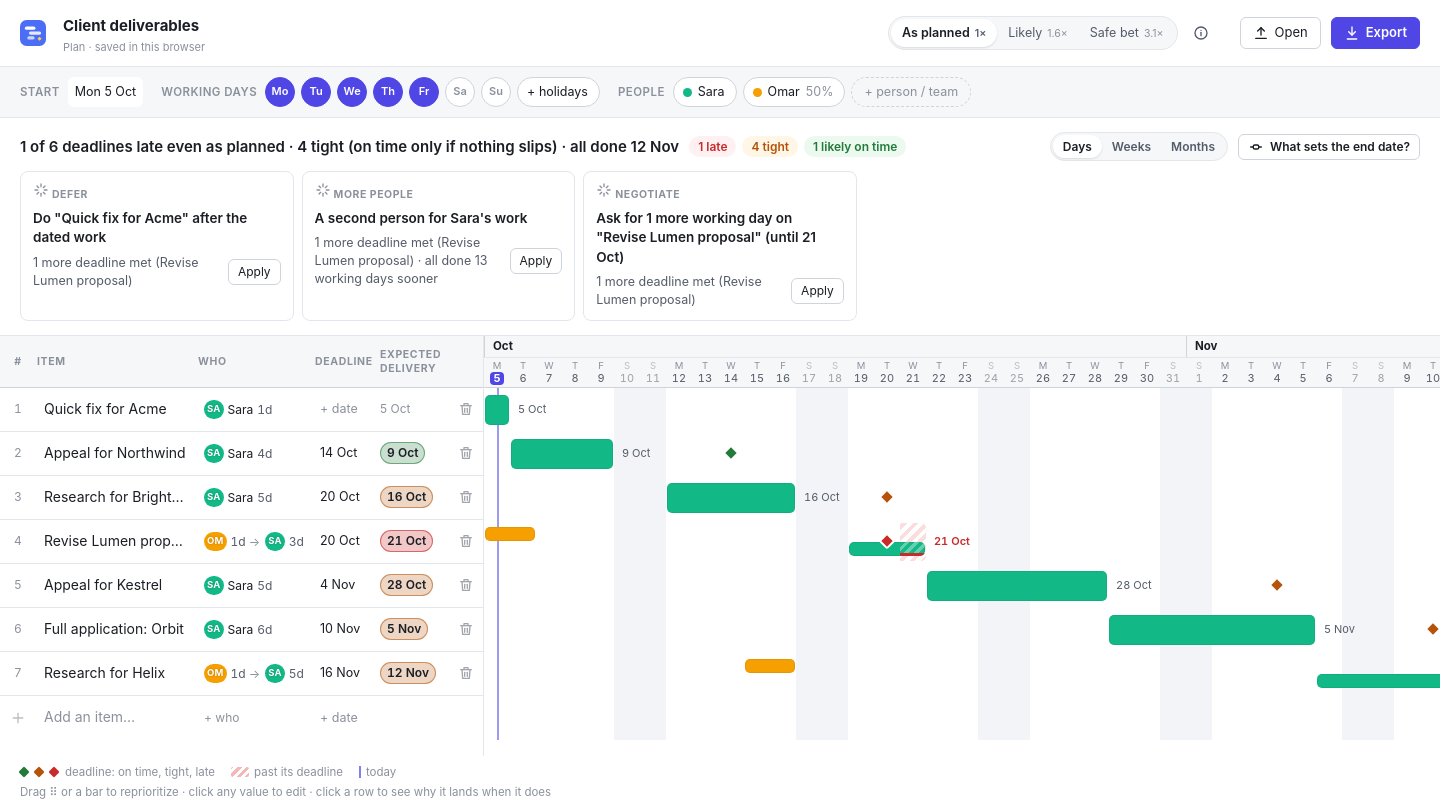
it: timeline details › the who editor lists everyone on one line each, with a column only where it applies
Click the button with class "who-cell" showing "SA Sara 1d" at (254, 409), box x1=198 y1=394 x2=310 y2=424
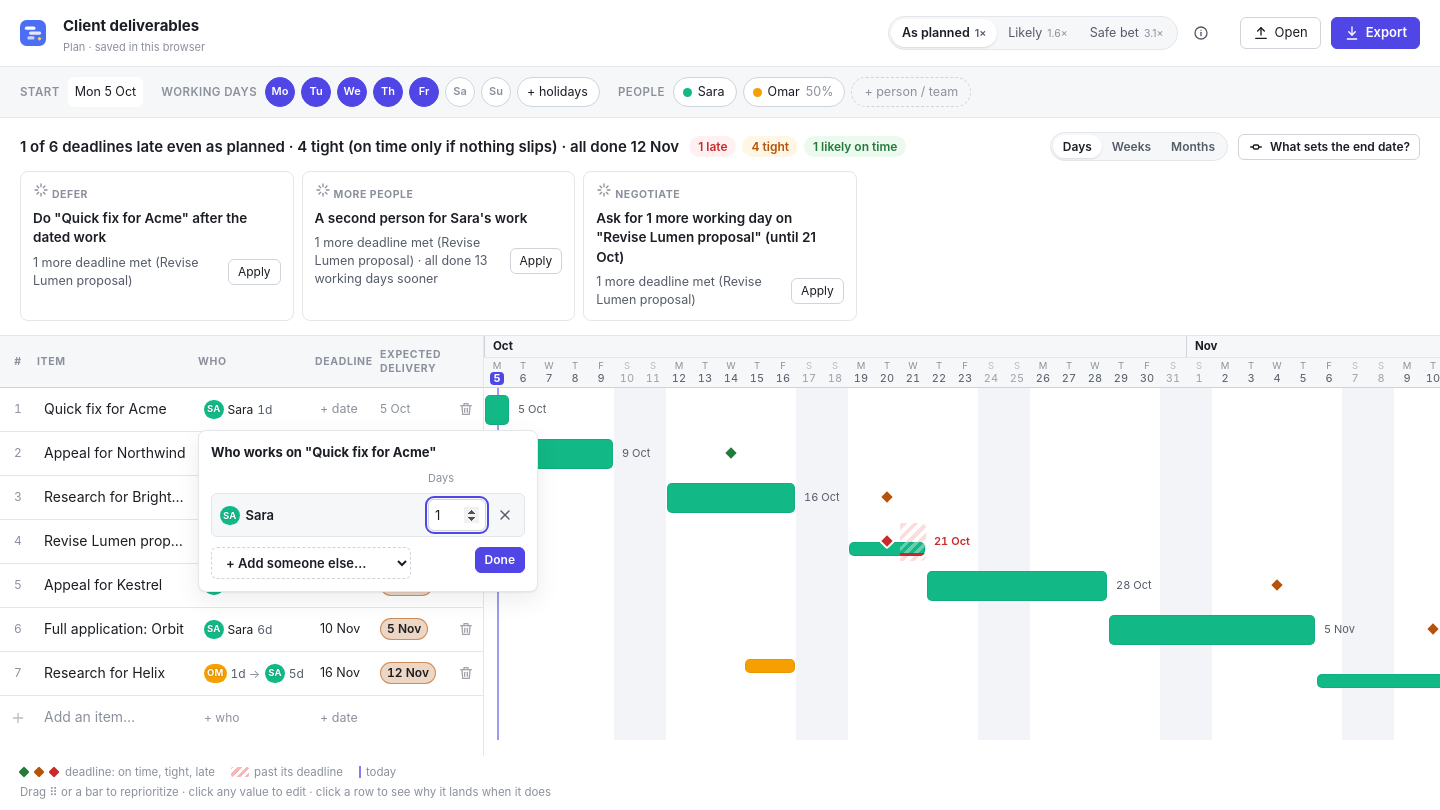
Select "Omar" in the dropdown with class "add-who" at (311, 564), box x1=211 y1=548 x2=411 y2=580
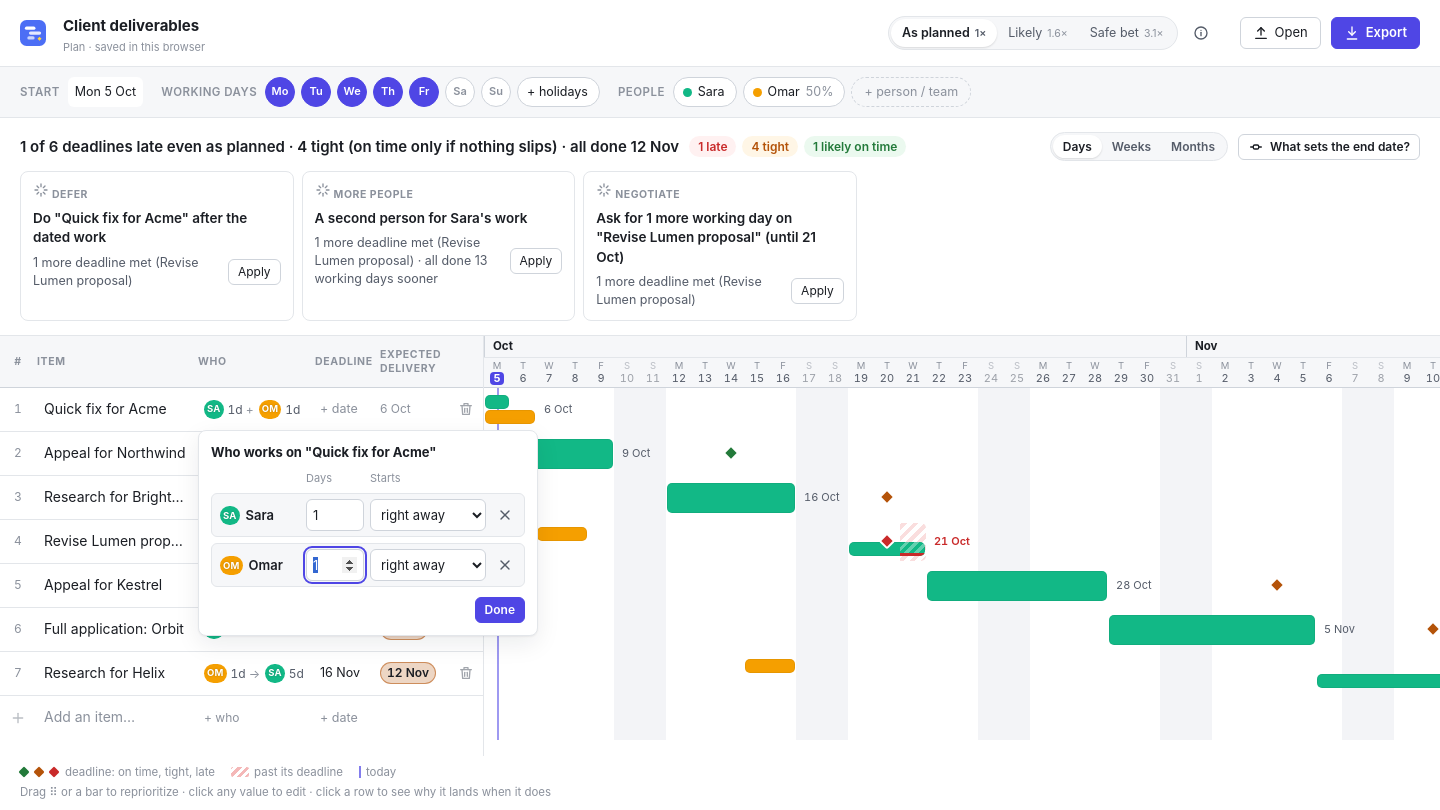
Result: the number of elements with class "who-person" is 2 at x1=220 y1=506 x2=274 y2=525; x1=220 y1=556 x2=283 y2=575
